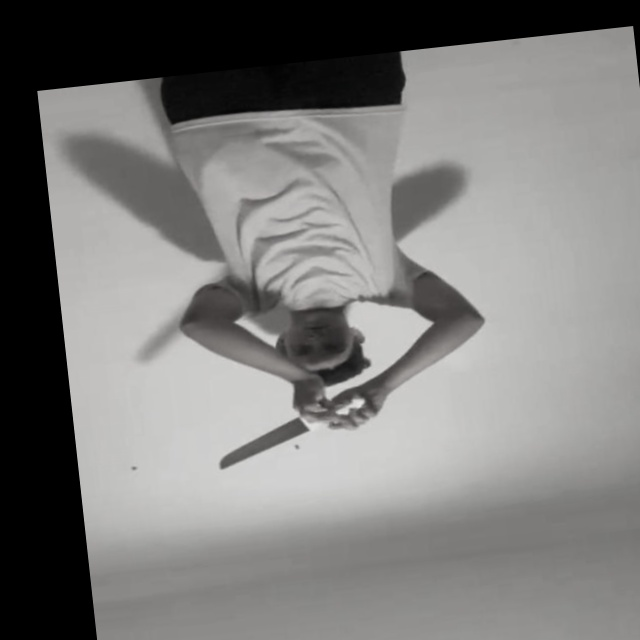Sharp-Object: (215, 419, 312, 472)
